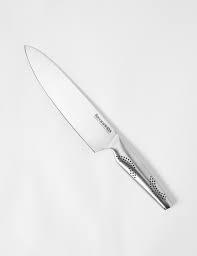Knife: (23, 43, 174, 210)
